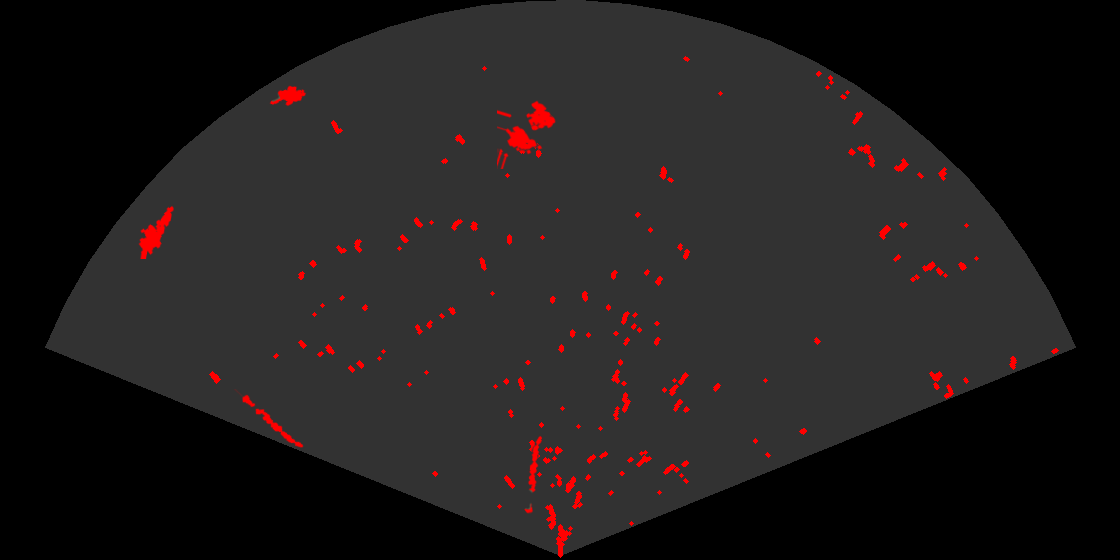AUV: (268, 84, 308, 108)
cage: (497, 99, 557, 169)
chain: (232, 389, 305, 449), (523, 434, 544, 514)
frogman: (137, 204, 175, 259)
